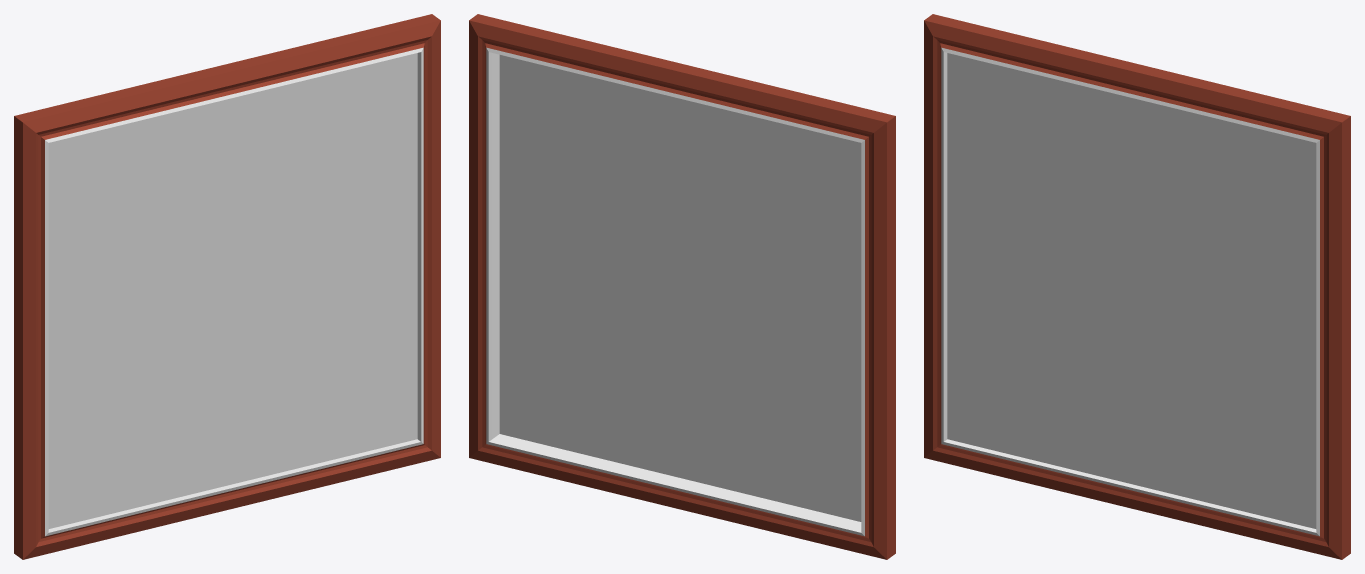
The model's file is cuadroVacio3.glb.
The picture shows the model from 3 angles, left to right: view 1: azimuth 30°, elevation 25°; view 2: azimuth 150°, elevation 25°; view 3: azimuth 330°, elevation 25°; orthographic projection.
Parts seen in each view (by area): view 1: capa1_2, Plane.004, Plane.001; view 2: capa1_1, Plane.001, Plane.004; view 3: capa1_2, Plane.004, Plane.001.
Part boxes in pixels (<box>): capa1_2: <box>48,53,417,528</box>; Plane.004: <box>17,16,440,559</box>; Plane.001: <box>14,14,434,557</box>; capa1_1: <box>499,55,861,521</box>; Plane.001: <box>469,18,892,559</box>; Plane.004: <box>473,14,895,555</box>; capa1_2: <box>947,53,1316,528</box>; Plane.004: <box>924,18,1347,559</box>; Plane.001: <box>928,14,1350,555</box>.
Size of the model in its own units: 2.54 by 2.54 by 0.1566.
